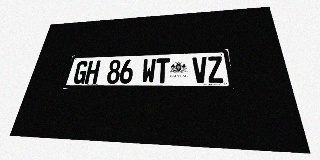6: (119, 59, 134, 84)
8: (106, 60, 122, 84)
G: (72, 61, 89, 84)
H: (84, 60, 101, 84)
T: (155, 58, 170, 83)
V: (192, 57, 208, 83)
W: (141, 58, 156, 83)
Z: (207, 56, 225, 83)
